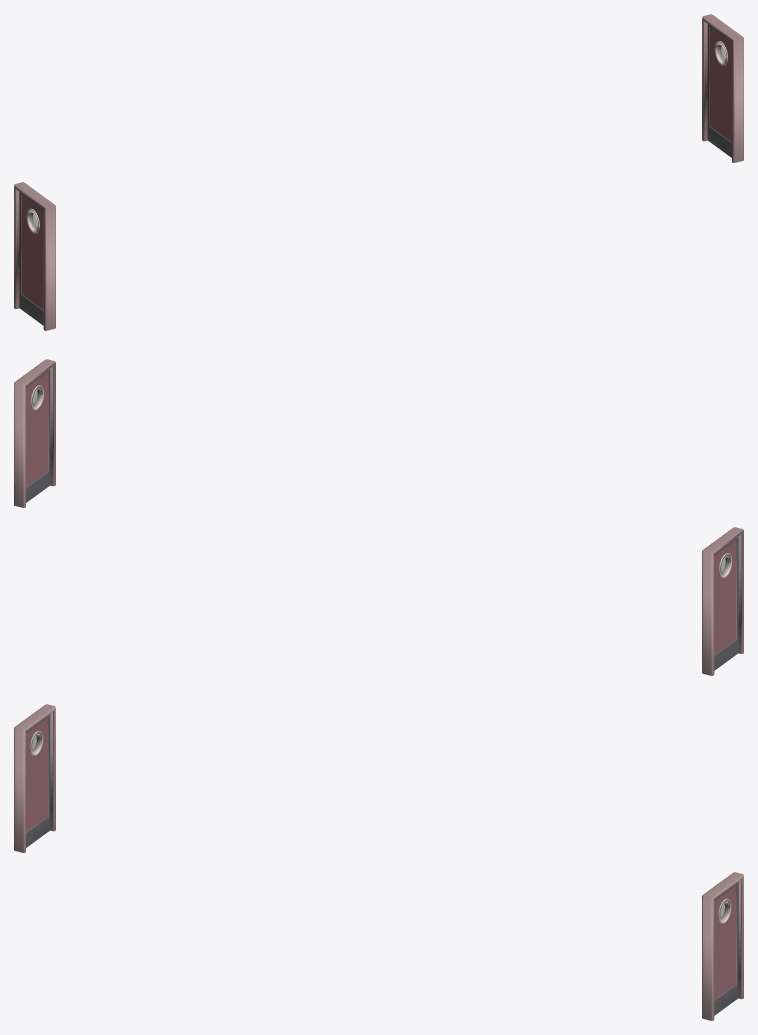
File: Door.fbx
3 renders of one model, top to bottom at view 1: azimuth 30°, elevation 25°; view 2: azimuth 150°, elevation 25°; view 3: azimuth 330°, elevation 25°, orthographic.
Visible parts, largest first — view 1: Door; view 2: Door; view 3: Door.
Boxes of the visible parts, x1,y1,x2,y2 form: Door: (14, 14, 743, 330); Door: (14, 359, 743, 675); Door: (14, 704, 743, 1020).
Size of the model in its own units: 1602 by 270 by 126.
